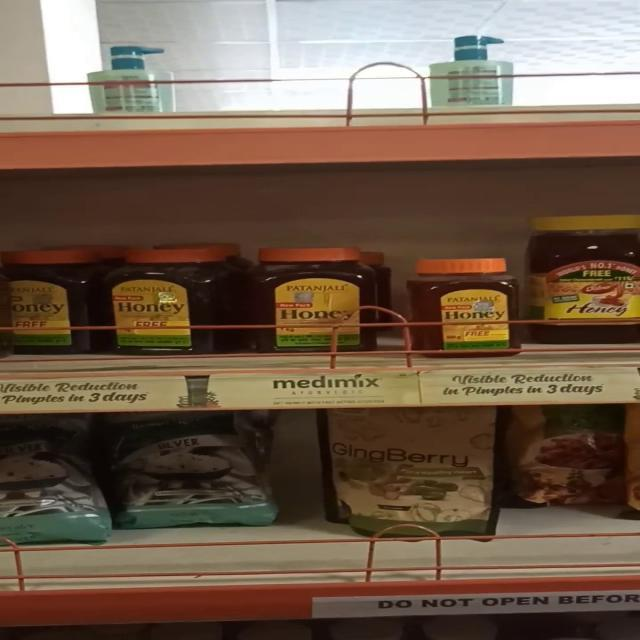Dabur Honey: (521, 214, 640, 354)
Patanjali Honey: (260, 243, 364, 350), (106, 252, 214, 351), (414, 260, 518, 352)
